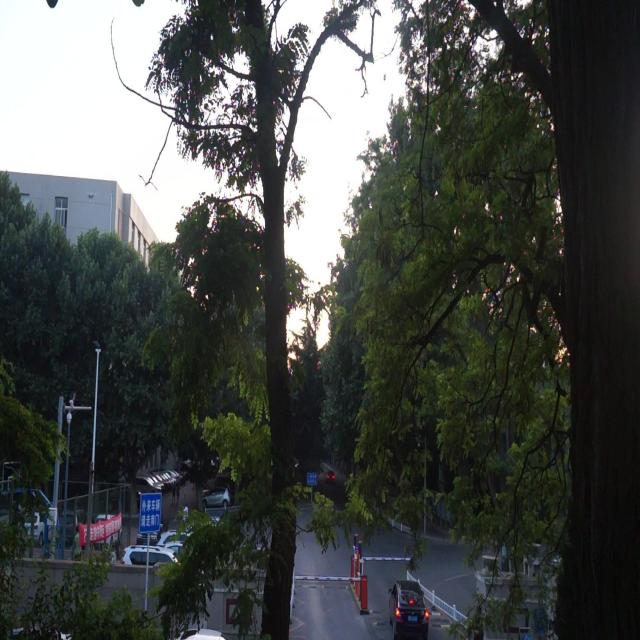drone: (85, 187, 97, 205)
